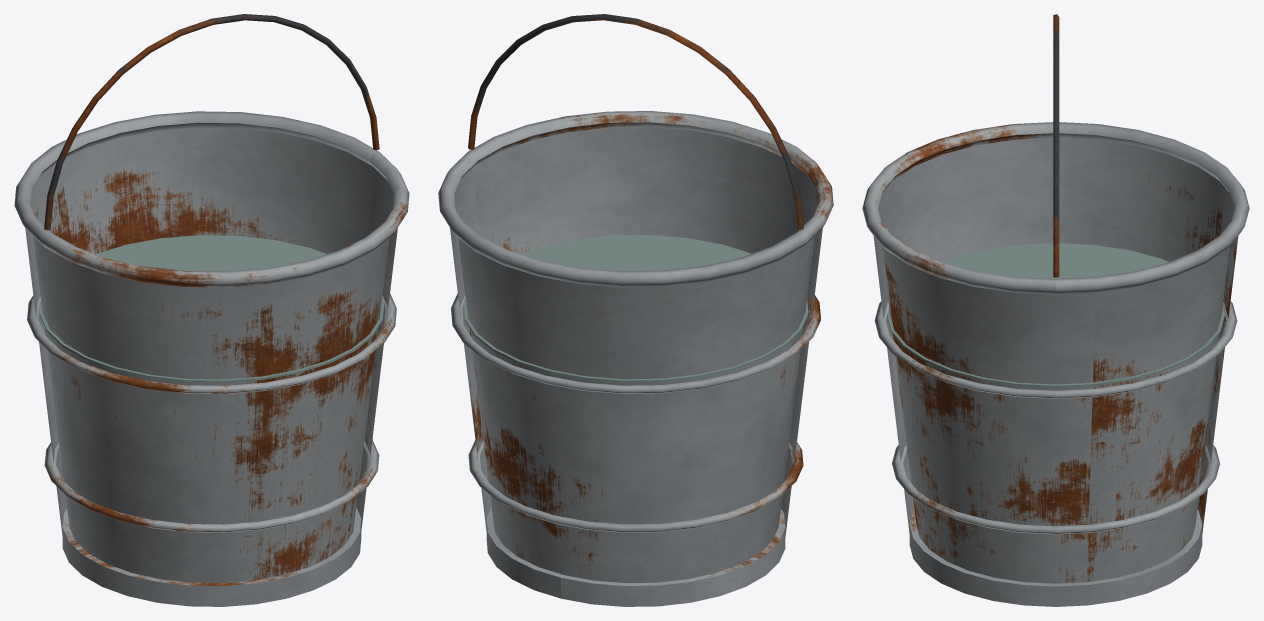
File: bucket.glb
The picture shows the model from 3 angles, left to right: view 1: azimuth 30°, elevation 25°; view 2: azimuth 150°, elevation 25°; view 3: azimuth 270°, elevation 25°; orthographic projection. The views are drawn at different scales.
Parts seen in each view (by area): view 1: bucket; view 2: bucket; view 3: bucket.
Boxes of the visible parts, x1,y1,x2,y2 form: bucket: [14, 14, 409, 606]; bucket: [438, 14, 833, 606]; bucket: [862, 14, 1249, 606].
Bounding box in the file's own units: 0.344 × 0.5029 × 0.344.
3 materials, 2 textured.
